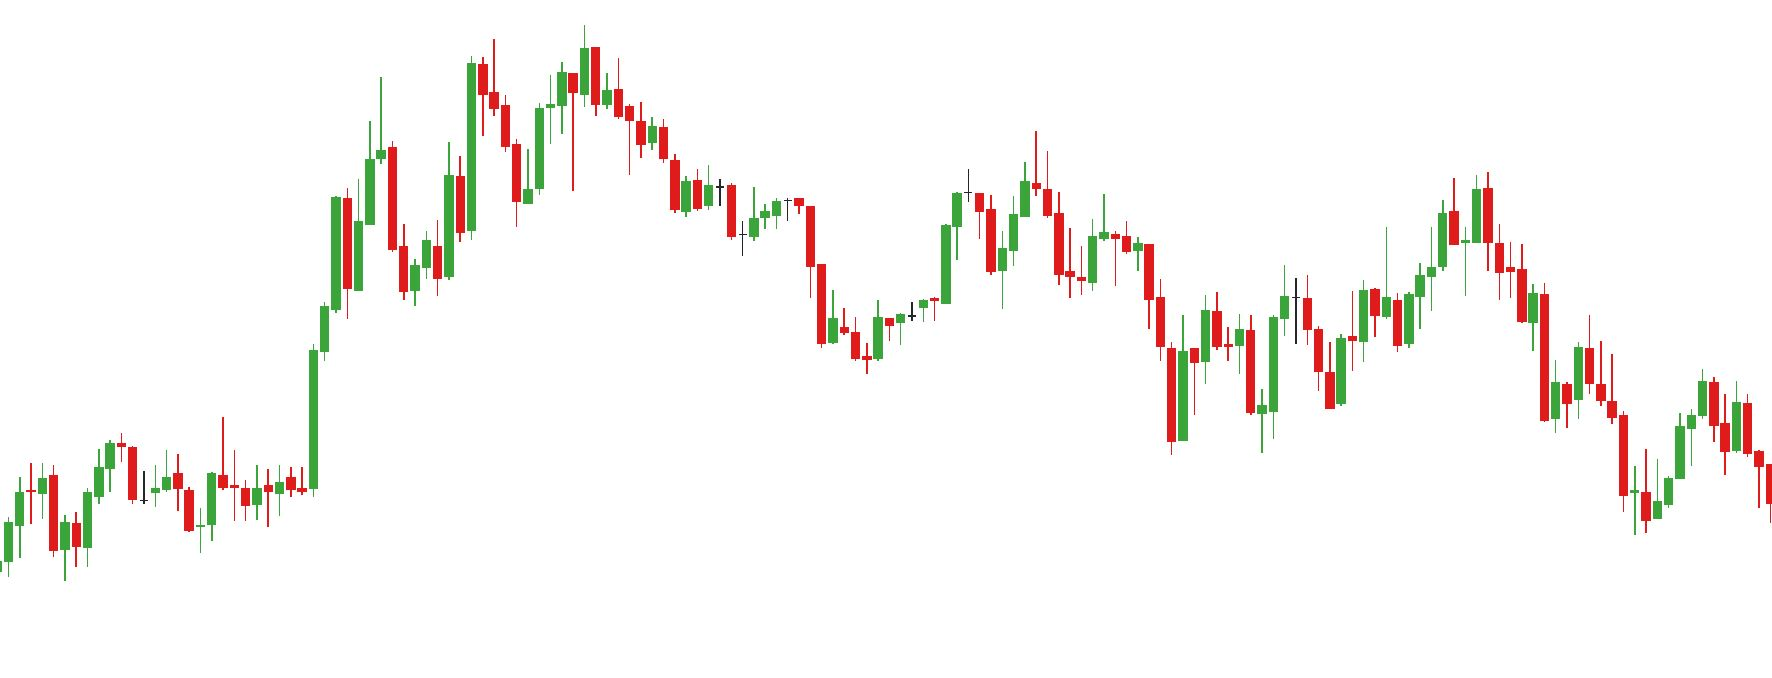buy: (862, 271, 1189, 458)
sell: (488, 26, 601, 171), (1378, 176, 1461, 315), (964, 129, 1040, 249)
